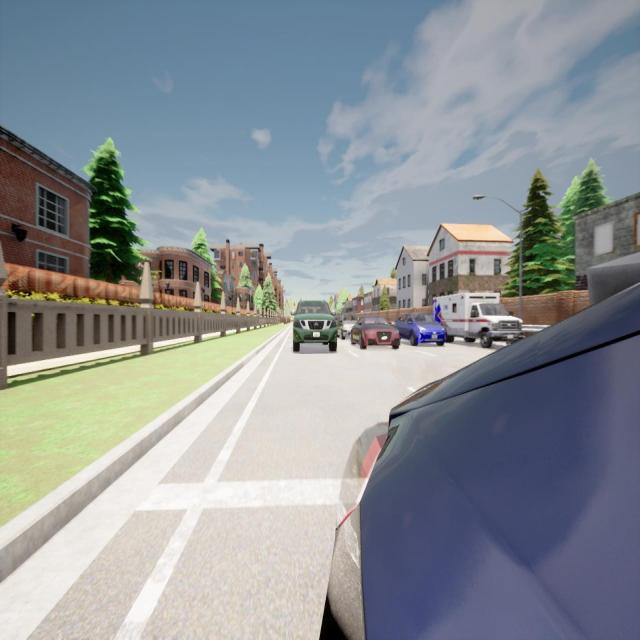Vehicle: (318, 282, 640, 637), (432, 292, 522, 348), (292, 299, 337, 352), (394, 313, 446, 346), (349, 315, 398, 349), (339, 312, 359, 341)
